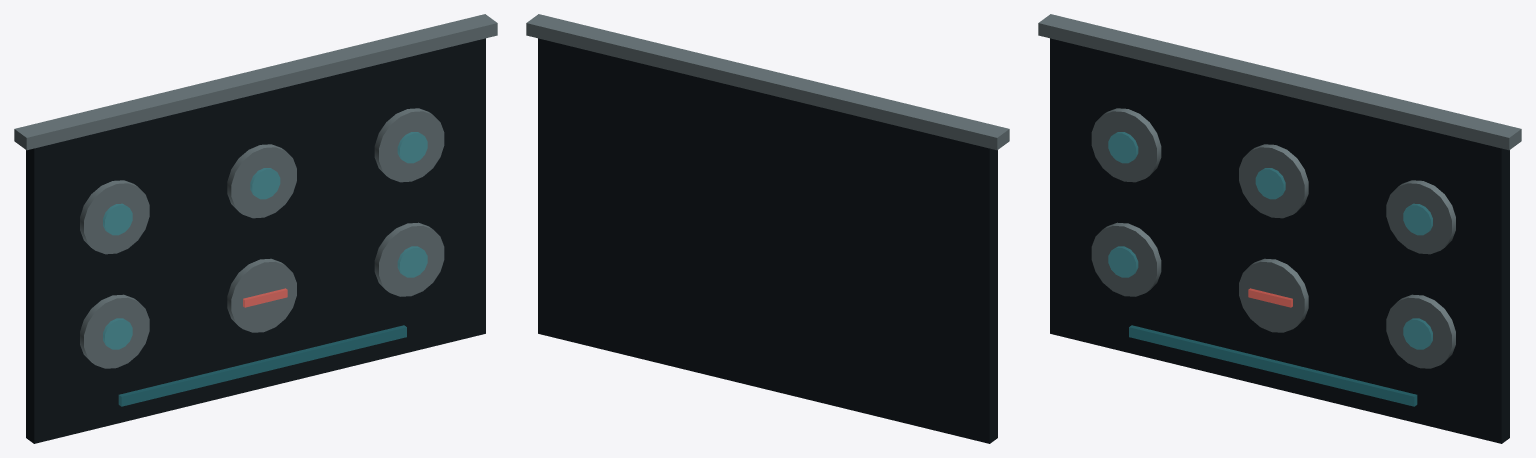
File: hp_room_cyber_mural_eye_array.glb
3 views of the same model, side by side, from view 1: azimuth 30°, elevation 25°; view 2: azimuth 150°, elevation 25°; view 3: azimuth 330°, elevation 25° (orthographic).
Parts seen in each view (by area): view 1: mural_backing, mural_frame, eye_ring_5, eye_ring_2, eye_ring_1, eye_ring_3, eye_ring_4, eye_ring_0, caption_bar, eye_iris_5, eye_iris_2, eye_iris_1 (+2 smaller); view 2: mural_backing, mural_frame; view 3: mural_backing, mural_frame, eye_ring_3, eye_ring_0, eye_ring_1, eye_ring_5, eye_ring_4, eye_ring_2, caption_bar, eye_iris_3, eye_iris_0, eye_iris_1 (+2 smaller).
Part boxes in pixels (<box>): mural_backing: <box>26,38,485,443</box>; mural_frame: <box>14,14,497,150</box>; eye_ring_5: <box>374,222,444,296</box>; eye_ring_2: <box>374,108,444,182</box>; eye_ring_1: <box>227,144,296,218</box>; eye_ring_3: <box>80,294,149,368</box>; eye_ring_4: <box>227,258,296,332</box>; eye_ring_0: <box>80,180,149,254</box>; caption_bar: <box>118,325,406,406</box>; eye_iris_5: <box>397,246,427,277</box>; eye_iris_2: <box>397,132,427,163</box>; eye_iris_1: <box>250,168,280,199</box>; mural_backing: <box>538,38,997,443</box>; mural_frame: <box>526,14,1009,150</box>; mural_backing: <box>1050,38,1509,443</box>; mural_frame: <box>1038,14,1521,150</box>; eye_ring_3: <box>1091,222,1161,296</box>; eye_ring_0: <box>1091,108,1161,182</box>; eye_ring_1: <box>1239,144,1308,218</box>; eye_ring_5: <box>1386,294,1455,368</box>; eye_ring_4: <box>1239,258,1308,332</box>; eye_ring_2: <box>1386,180,1455,254</box>; caption_bar: <box>1129,325,1417,406</box>; eye_iris_3: <box>1108,246,1138,277</box>; eye_iris_0: <box>1108,132,1138,163</box>; eye_iris_1: <box>1255,168,1285,199</box>.
Bounding box in the file's own units: 1.98 × 1.25 × 0.12.
